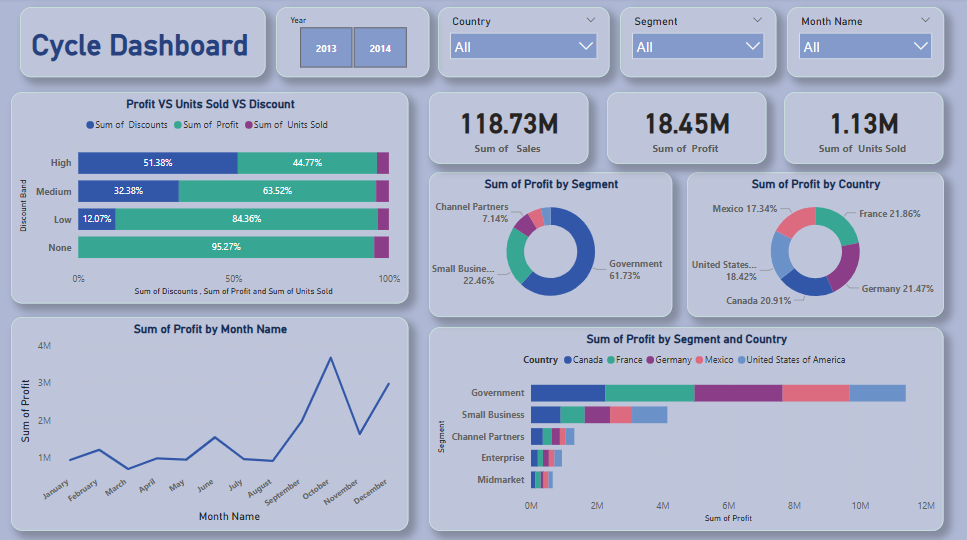

The dashboard page shown, as its layout file describes it:
{"tool":"powerbi","page":{"name":"Page 1","canvas":[1280,720],"ordinal":0},"visuals":[{"type":"donutChart","fields":{"Category":["Financials.Segment"],"Y":["Sum(Financials. Profit )"]},"box":[568.4,230.3,322.1,192.4],"z":0},{"type":"donutChart","fields":{"Category":["Financials.Country"],"Y":["Sum(Financials. Profit )"]},"box":[909.5,230.3,339.6,192.4],"z":1000},{"type":"lineChart","fields":{"Category":["Financials. Month Name "],"Y":["Sum(Financials. Profit )"]},"box":[14.6,422.7,526.2,282.8],"z":2000},{"type":"hundredPercentStackedBarChart","title":"Profit VS  Units Sold VS Discount  ","fields":{"Category":["Financials. Discount Band "],"Y":["Sum(Financials. Discounts )","Sum(Financials. Profit )","Sum(Financials. Units Sold )"]},"box":[14.6,123.9,526.2,279.8],"z":3000},{"type":"barChart","fields":{"Category":["Financials.Segment"],"Series":["Financials.Country"],"Y":["Sum(Financials. Profit )"]},"box":[568.4,435.8,680.6,269.6],"z":4000},{"type":"textbox","box":[26.2,11.7,325,93.3],"z":5000},{"type":"slicer","fields":{"Values":["Financials.Year"]},"box":[365.8,11.7,202.6,93.3],"z":6000},{"type":"slicer","fields":{"Values":["Financials.Country"]},"box":[580.1,11.7,227.4,93.3],"z":7000},{"type":"slicer","fields":{"Values":["Financials.Segment"]},"box":[820.6,11.7,207,93.3],"z":8000},{"type":"slicer","fields":{"Values":["Financials. Month Name "]},"box":[1042.1,11.7,208.4,93.3],"z":9000},{"type":"card","fields":{"Values":["Sum(Financials.  Sales )"]},"box":[568.4,123.9,211.3,94.7],"z":10000},{"type":"card","fields":{"Values":["Sum(Financials. Profit )"]},"box":[803.1,123.9,211.3,94.7],"z":11000},{"type":"card","fields":{"Values":["Sum(Financials. Units Sold )"]},"box":[1037.7,123.9,211.3,94.7],"z":12000}]}

Visuals, with their boxes in screenshot pixels (x1, y1, x2, y2), scaled from the page's 1280x720 canvas onto the 967x540 screenshot:
donutChart - Financials.Segment x Sum(Financials. Profit ): 429/173/673/317
donutChart - Financials.Country x Sum(Financials. Profit ): 687/173/944/317
lineChart - Financials. Month Name  x Sum(Financials. Profit ): 11/317/409/529
"Profit VS  Units Sold VS Discount  " hundredPercentStackedBarChart: 11/93/409/303
barChart - Financials.Segment x Financials.Country: 429/327/944/529
textbox: 20/9/265/79
slicer - Financials.Year: 276/9/429/79
slicer - Financials.Country: 438/9/610/79
slicer - Financials.Segment: 620/9/776/79
slicer - Financials. Month Name : 787/9/945/79
card - Sum(Financials.  Sales ): 429/93/589/164
card - Sum(Financials. Profit ): 607/93/766/164
card - Sum(Financials. Units Sold ): 784/93/944/164
